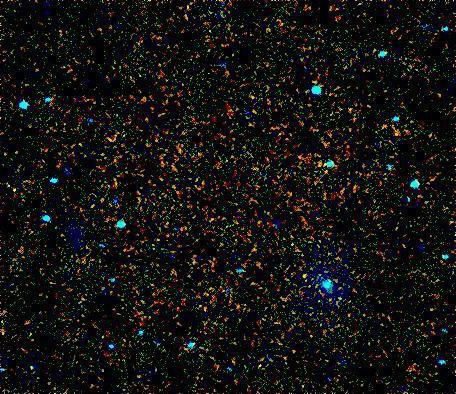star: (288, 260, 318, 290)
